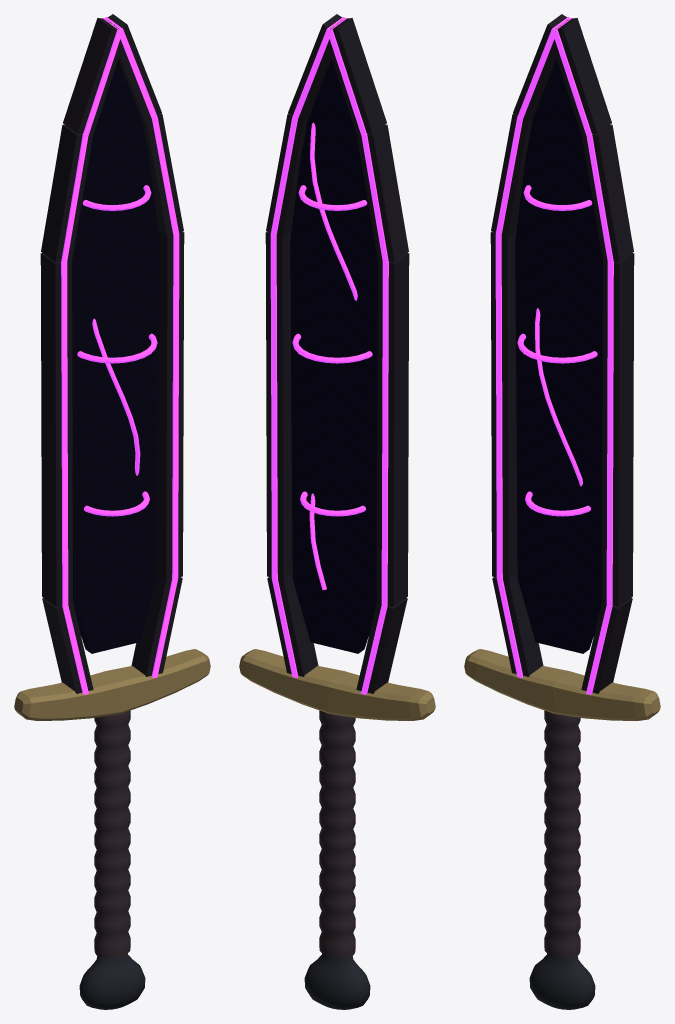
The model's file is nowhere-king-sword-null-gate.glb.
3 renders of one model, left to right at view 1: azimuth 30°, elevation 25°; view 2: azimuth 150°, elevation 25°; view 3: azimuth 330°, elevation 25°, orthographic.
Parts seen in each view (by area): view 1: null-gate-absence, null-gate-left-frame-1, grip, null-gate-right-frame-1, guard, null-gate-left-frame-2, null-gate-left-frame-3, pommel, null-gate-right-frame-0, null-gate-right-horizon-1, null-gate-left-horizon-1, null-gate-left-frame-0 (+12 smaller); view 2: null-gate-absence, null-gate-left-frame-1, grip, null-gate-right-frame-1, guard, null-gate-left-frame-2, null-gate-left-frame-3, pommel, null-gate-right-frame-0, null-gate-right-horizon-1, null-gate-left-horizon-1, null-gate-left-frame-0 (+12 smaller); view 3: null-gate-absence, null-gate-right-frame-1, grip, null-gate-left-frame-1, guard, null-gate-right-frame-2, null-gate-right-frame-3, pommel, null-gate-left-frame-0, null-gate-left-horizon-1, null-gate-right-horizon-1, null-gate-right-frame-0 (+12 smaller).
Part boxes in pixels (x1,y1,x2,y2): null-gate-absence: (72, 59, 159, 653); null-gate-left-frame-1: (40, 253, 73, 607); grip: (94, 710, 130, 958); null-gate-right-frame-1: (157, 231, 184, 578); guard: (14, 649, 210, 720); null-gate-left-frame-2: (41, 124, 92, 262); null-gate-left-frame-3: (63, 18, 127, 135); pommel: (79, 953, 145, 1009); null-gate-right-frame-0: (131, 573, 182, 676); null-gate-right-horizon-1: (172, 234, 179, 579); null-gate-left-horizon-1: (61, 262, 68, 606); null-gate-left-frame-0: (42, 598, 93, 693); null-gate-absence: (290, 59, 377, 653); null-gate-left-frame-1: (376, 253, 409, 607); grip: (319, 710, 355, 958); null-gate-right-frame-1: (265, 231, 292, 578); guard: (239, 649, 435, 720); null-gate-left-frame-2: (357, 124, 408, 262); null-gate-left-frame-3: (322, 18, 386, 135); pommel: (304, 953, 370, 1009); null-gate-right-frame-0: (267, 573, 318, 676); null-gate-right-horizon-1: (270, 234, 277, 579); null-gate-left-horizon-1: (381, 262, 388, 606); null-gate-left-frame-0: (356, 598, 407, 693); null-gate-absence: (515, 59, 602, 653); null-gate-right-frame-1: (601, 253, 634, 607); grip: (544, 710, 580, 958); null-gate-left-frame-1: (490, 231, 517, 578); guard: (464, 649, 660, 720); null-gate-right-frame-2: (582, 124, 633, 262); null-gate-right-frame-3: (548, 18, 611, 135); pommel: (529, 953, 595, 1009); null-gate-left-frame-0: (492, 573, 543, 676); null-gate-left-horizon-1: (495, 234, 502, 579); null-gate-right-horizon-1: (606, 262, 613, 606); null-gate-right-frame-0: (581, 598, 632, 693).
Size of the model in its own units: 0.3177 by 1.58 by 0.131.
Materials: 6 (1 with a texture image).
